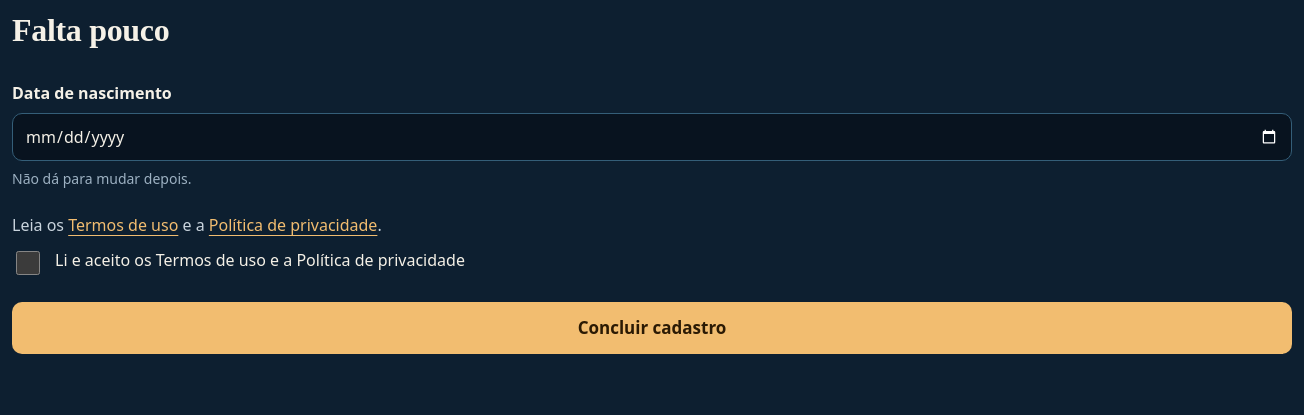
Test: Cadastro › dataRecusadaVoltaAoCampo
Type "2000-01-31" into the date field labelled "Data de nascimento" at (652, 137), box left=12, top=113, right=1292, bottom=161
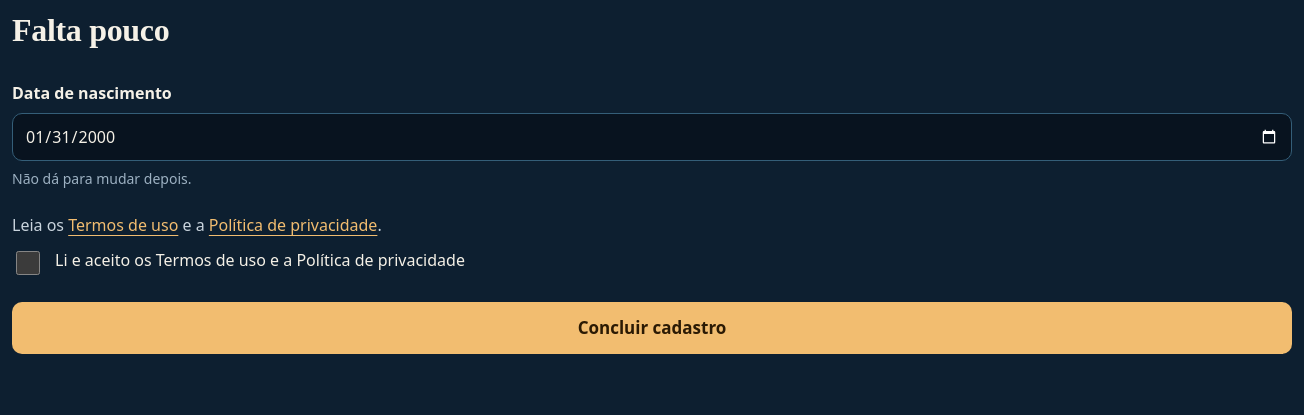
Click the checkbox labelled "Li e aceito os Termos de uso e a Política de privacidade" at (28, 263), box left=16, top=251, right=40, bottom=275
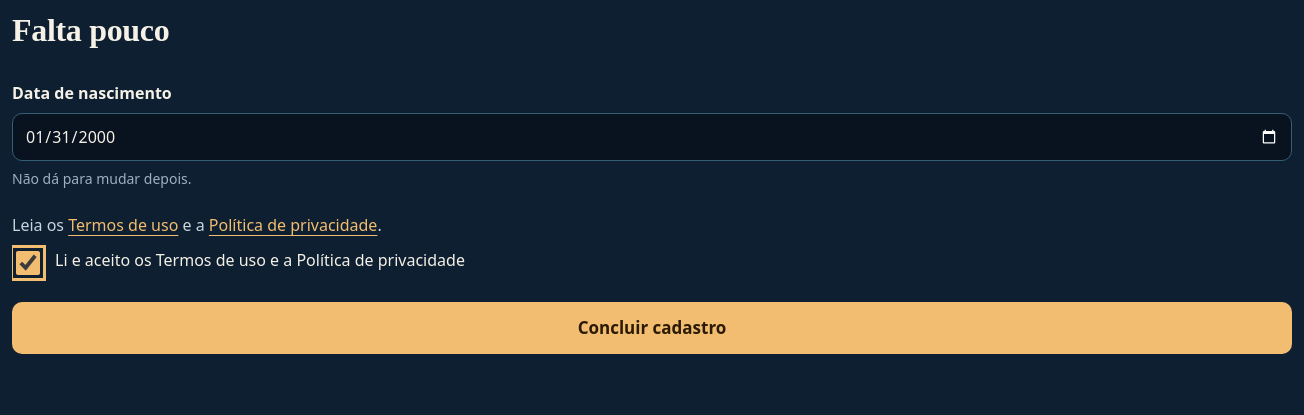
Click the button "Concluir cadastro" at (652, 328), box left=12, top=302, right=1292, bottom=354
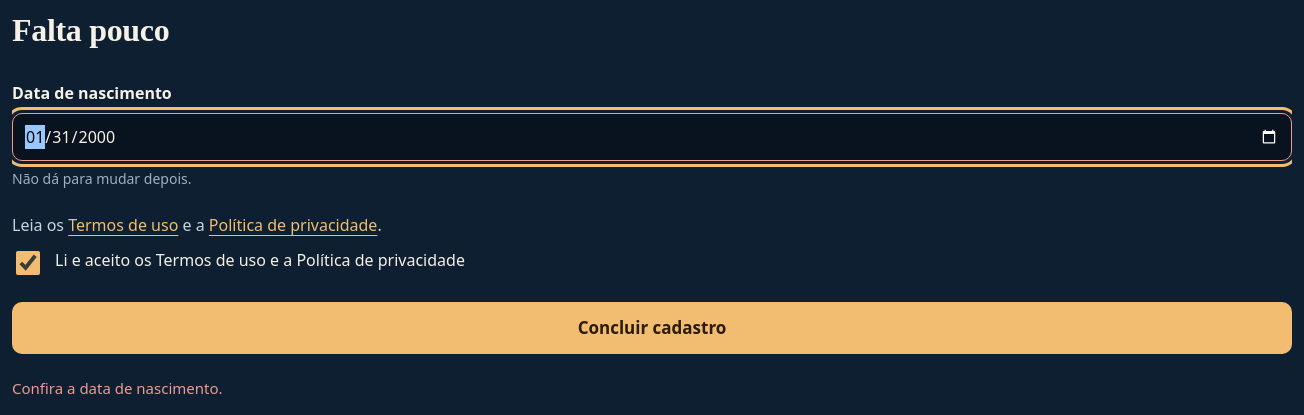
Now the message reads "Confira a data de nascimento.", box left=12, top=378, right=222, bottom=398
